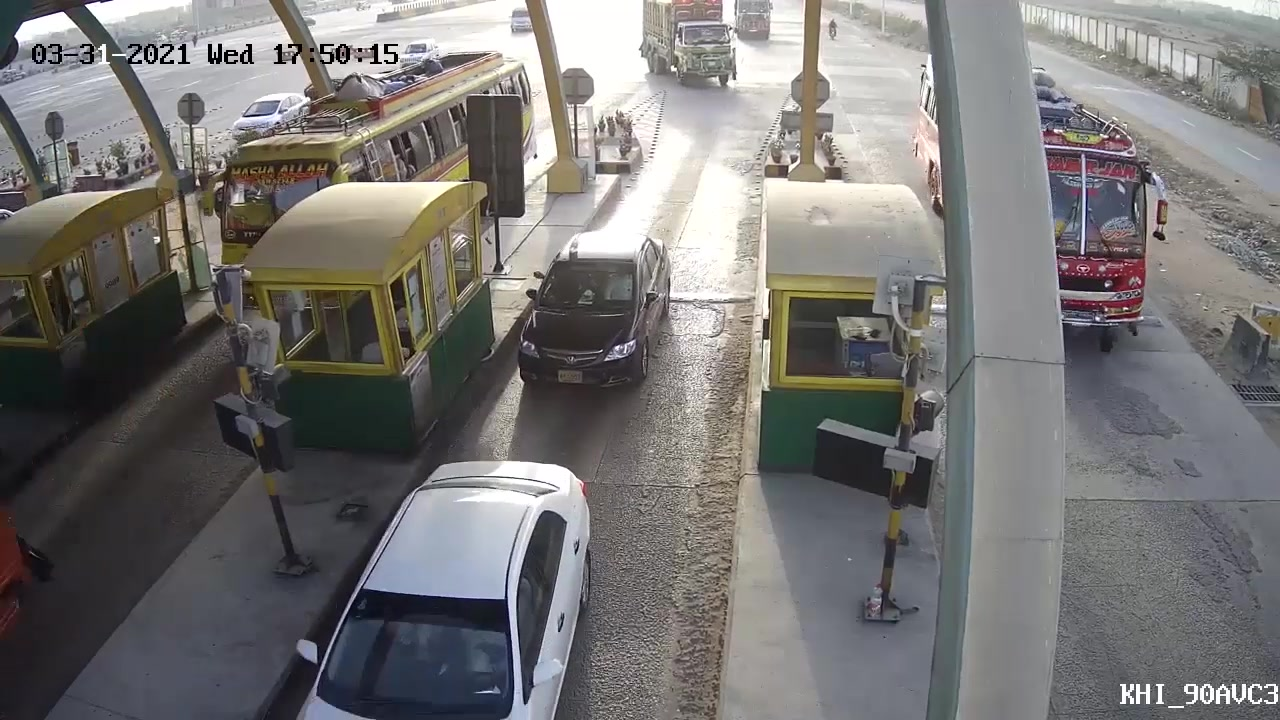F1: (509, 227, 673, 416)
